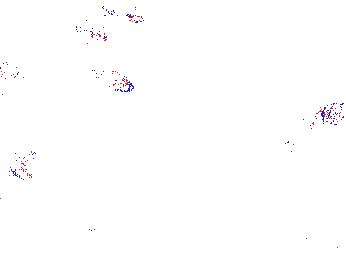X-ray fish: (82, 66, 137, 94)
glassfish: (221, 100, 327, 169)
red belly glassfish: (105, 6, 148, 26), (72, 24, 109, 44)
redtail glassfish: (1, 58, 23, 83)
